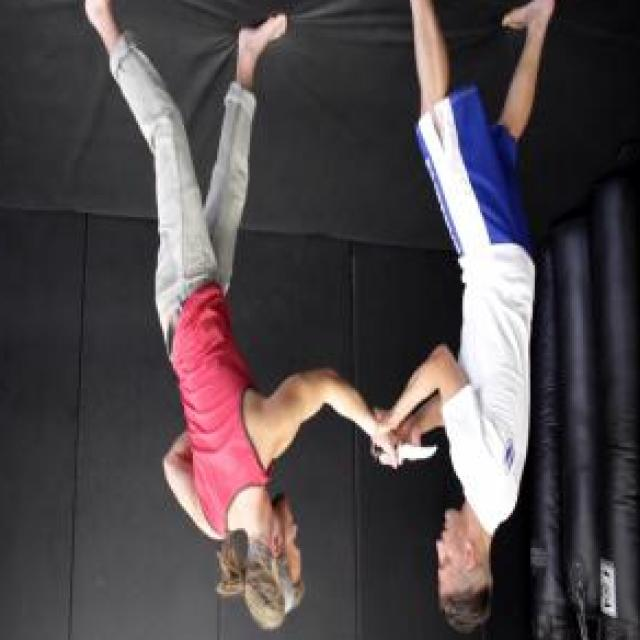knife: (366, 433, 445, 482)
